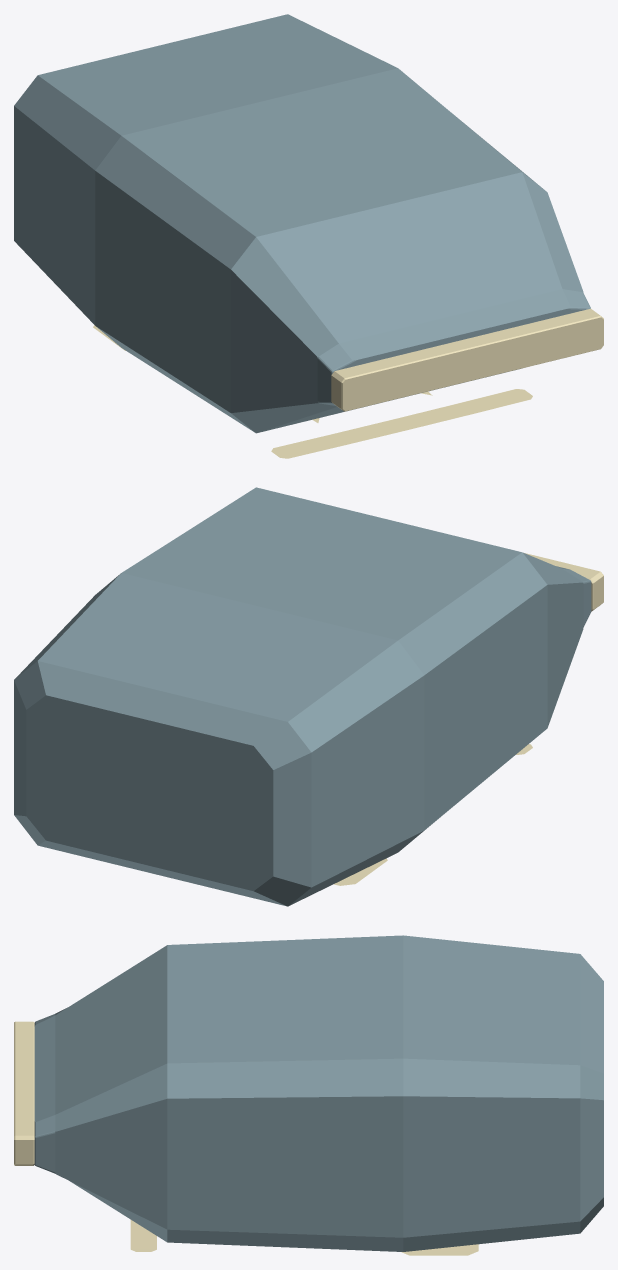
File: cat_food.glb
The picture shows the model from 3 angles, top to bottom: view 1: azimuth 30°, elevation 25°; view 2: azimuth 150°, elevation 25°; view 3: azimuth 270°, elevation 25°; orthographic projection. The views are drawn at different scales.
Parts seen in each view (by area): view 1: cat_food; view 2: cat_food; view 3: cat_food.
Boxes of the visible parts, box(x1,y1,x2,y2) form: cat_food: box(14, 14, 603, 458); cat_food: box(14, 487, 603, 906); cat_food: box(14, 935, 603, 1255).
Bounding box in the file's own units: 0.1175 × 0.0799 × 0.2.
